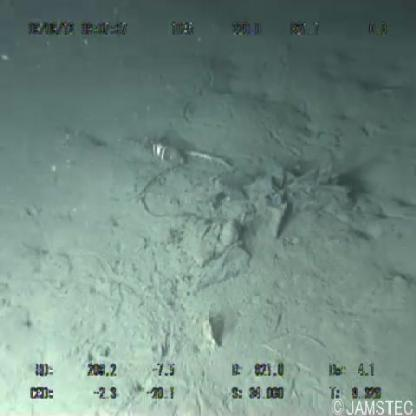Rác: (146, 143, 182, 163)
